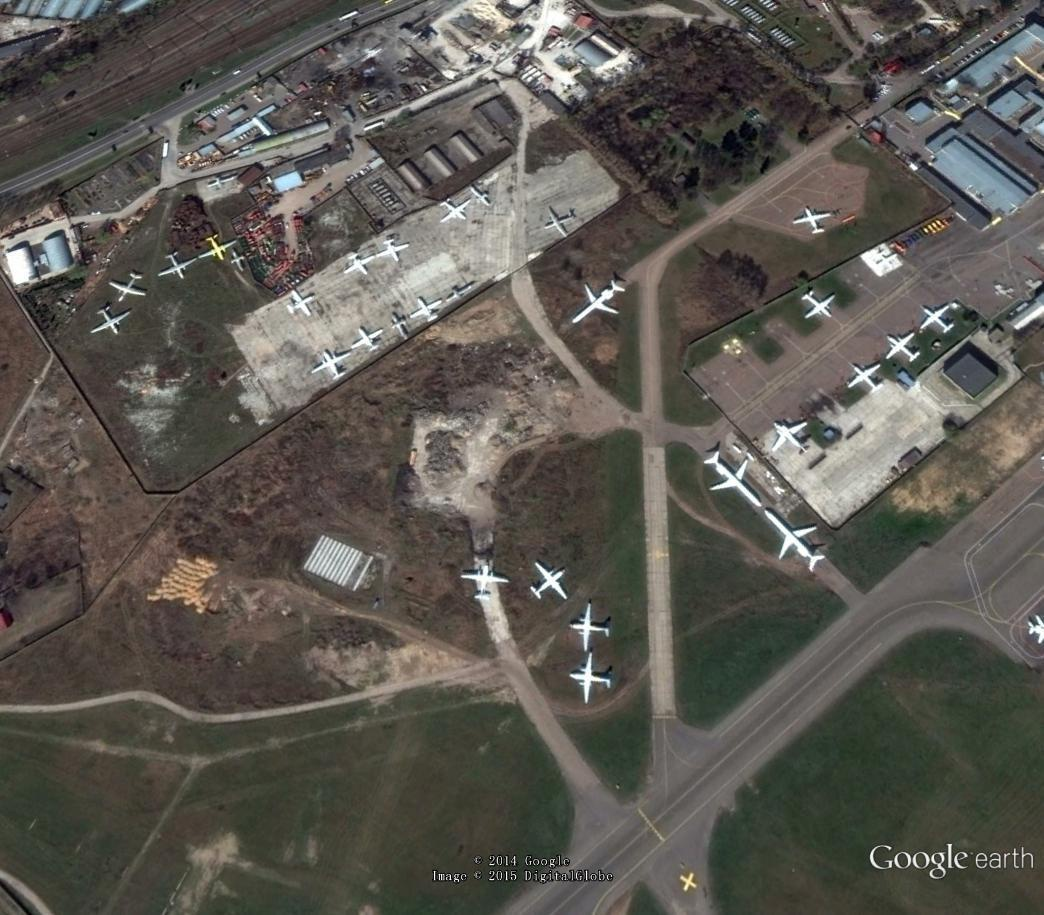aircraft: (765, 505, 832, 579), (697, 447, 768, 516), (570, 276, 633, 330), (564, 648, 618, 711), (565, 598, 618, 658), (457, 556, 514, 606), (766, 418, 820, 460), (528, 559, 574, 607), (306, 346, 360, 384), (106, 270, 154, 310), (88, 303, 136, 343), (879, 327, 927, 367), (790, 204, 840, 241), (154, 247, 202, 285), (844, 360, 889, 399), (198, 229, 243, 267), (916, 301, 960, 339), (538, 205, 585, 240), (798, 286, 841, 322), (436, 192, 475, 228), (375, 235, 417, 268), (283, 286, 322, 321), (340, 247, 378, 282), (409, 294, 448, 327), (349, 324, 387, 357), (385, 309, 418, 346), (223, 249, 253, 277), (468, 180, 493, 211)
